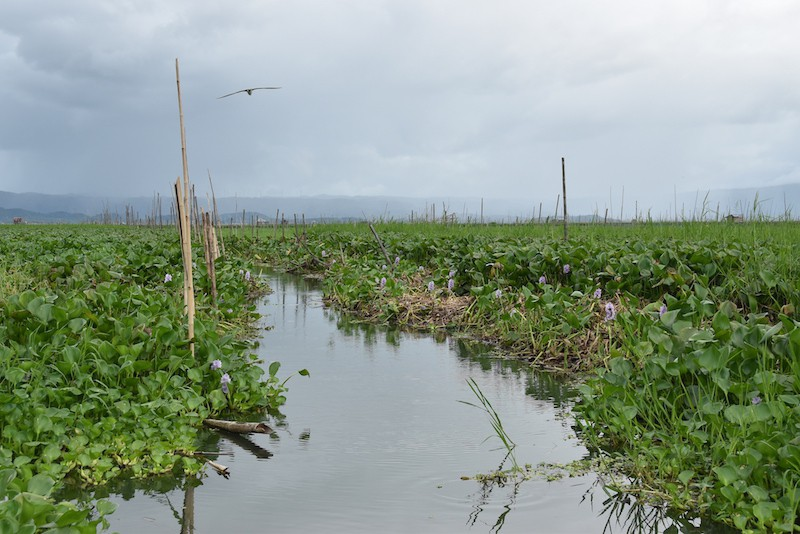water_hyacinth: (0, 318, 287, 481)
